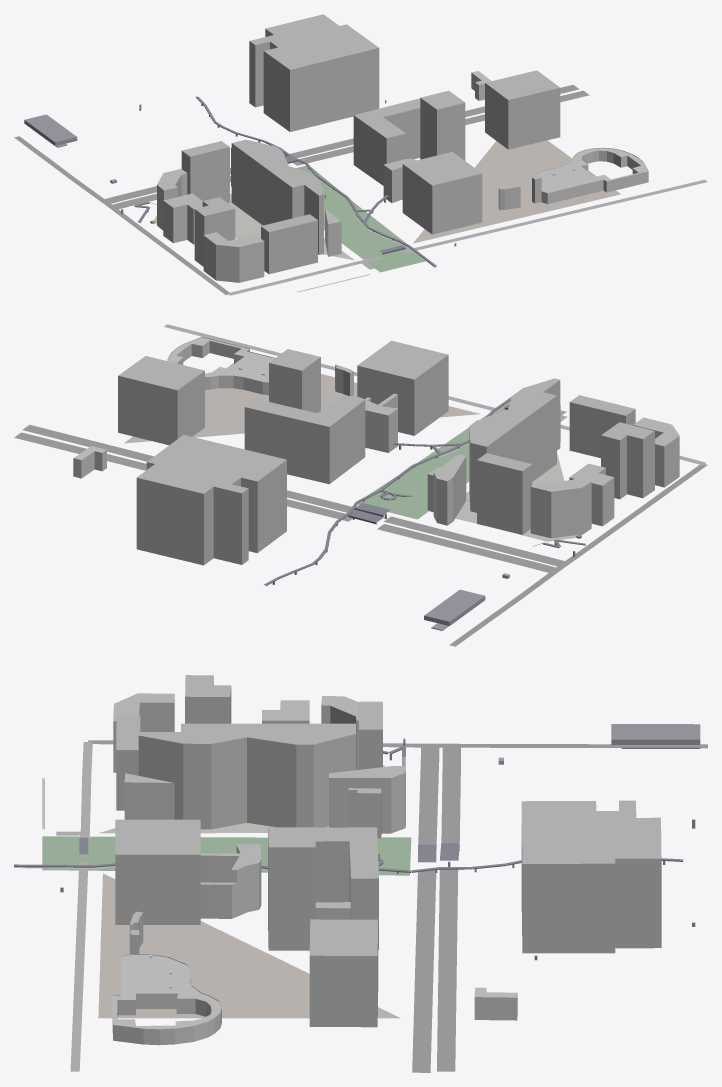
The picture shows the model from 3 angles, top to bottom: view 1: azimuth 30°, elevation 25°; view 2: azimuth 150°, elevation 25°; view 3: azimuth 270°, elevation 25°; orthographic projection. The views are drawn at different scales.
Size of the model in its own units: 601 by 89.25 by 527.
